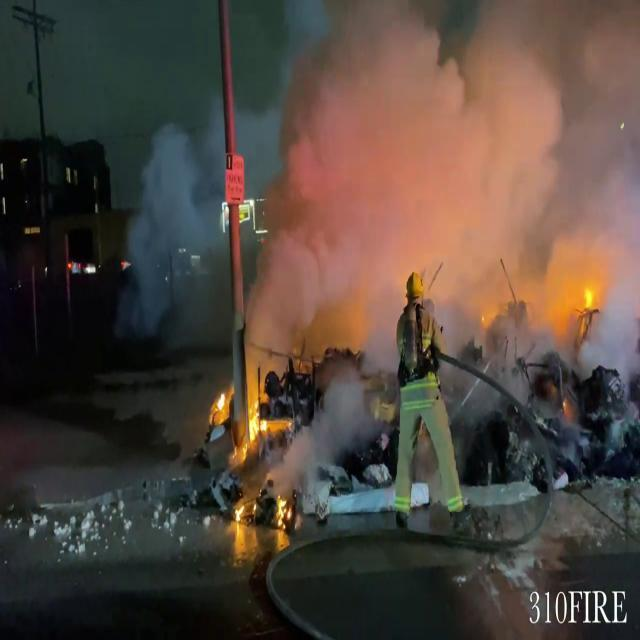Fire: (210, 380, 264, 458)
Smoke: (243, 0, 640, 361), (121, 108, 209, 338)
